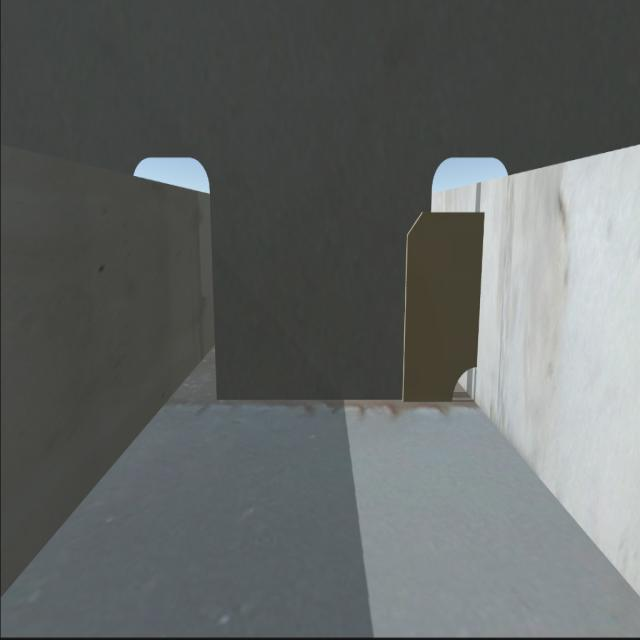fillet_hole: (448, 369, 478, 411)
fillet_yong_jeop_jang: (222, 391, 451, 408)
longi_yong_jeop_jang: (475, 213, 484, 365)
plate_CP03: (403, 204, 486, 390)
